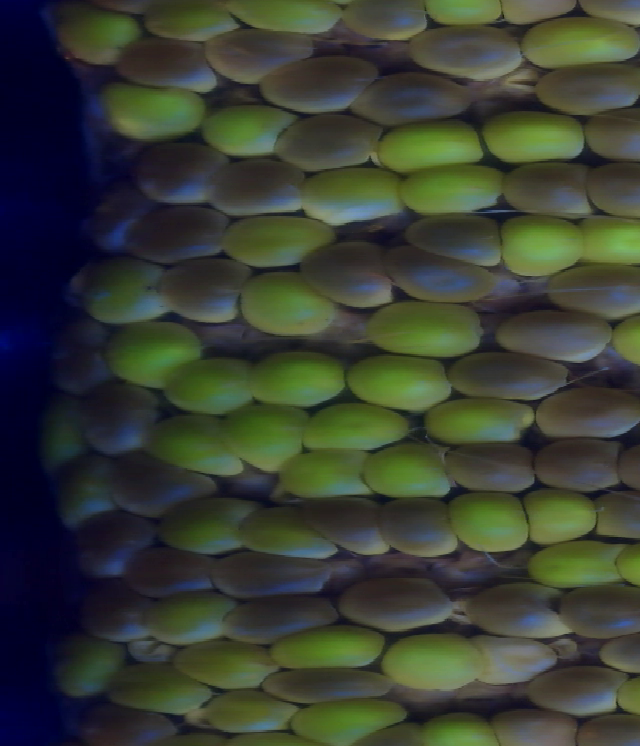fluorescent: (241, 272, 341, 340), (147, 413, 246, 481), (367, 301, 486, 354), (387, 631, 485, 695), (98, 321, 198, 383), (303, 163, 404, 224), (101, 83, 201, 144), (222, 213, 334, 265), (224, 403, 310, 470), (155, 497, 250, 557), (345, 356, 450, 410), (485, 106, 588, 161), (402, 163, 505, 218), (520, 19, 640, 66), (301, 400, 415, 449), (377, 120, 485, 170), (85, 261, 176, 320), (236, 506, 339, 558), (178, 638, 275, 693), (110, 659, 204, 714), (500, 213, 583, 275), (248, 351, 343, 405), (274, 628, 384, 673), (452, 490, 530, 553), (54, 7, 137, 66), (429, 399, 533, 446), (289, 700, 406, 741), (161, 361, 253, 413), (50, 456, 119, 525), (280, 451, 375, 500), (365, 447, 455, 497), (144, 591, 228, 644), (56, 633, 118, 704), (527, 490, 604, 546), (529, 541, 627, 584), (235, 3, 346, 38), (145, 4, 239, 44), (204, 693, 295, 731), (201, 113, 285, 154), (583, 217, 640, 263), (426, 2, 504, 28)
nonfluorescent: (111, 453, 213, 520), (155, 253, 244, 327), (259, 56, 373, 113), (407, 26, 523, 81), (497, 306, 613, 361), (341, 578, 452, 634), (403, 213, 509, 271), (209, 157, 306, 220), (445, 353, 568, 402), (305, 240, 393, 308), (390, 246, 496, 302), (274, 112, 383, 166), (464, 580, 571, 635), (114, 37, 217, 94), (353, 73, 467, 124), (204, 31, 314, 81), (225, 597, 342, 644), (71, 509, 154, 574), (504, 160, 592, 221), (212, 550, 327, 596), (535, 389, 640, 439), (131, 209, 228, 262), (138, 146, 225, 205), (531, 66, 640, 112), (82, 385, 155, 452), (261, 670, 390, 707), (548, 266, 640, 317), (383, 495, 456, 557), (80, 583, 155, 642), (559, 582, 640, 636), (129, 547, 213, 599), (305, 498, 383, 554), (528, 664, 619, 712), (448, 440, 535, 490), (534, 439, 620, 489), (56, 320, 108, 392), (493, 704, 577, 746), (90, 189, 150, 246), (343, 1, 429, 40), (585, 162, 640, 218), (482, 633, 554, 675), (585, 107, 640, 161), (571, 710, 640, 746), (595, 488, 640, 543), (595, 632, 640, 671)
